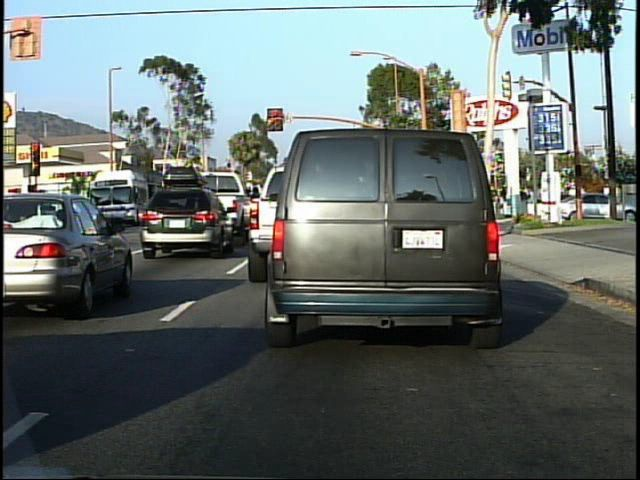person: (473, 170, 488, 225), (489, 186, 503, 224)
